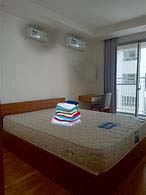copymove: (24, 25, 60, 42)
removal: (76, 60, 97, 92)
spliced: (50, 99, 81, 128)
